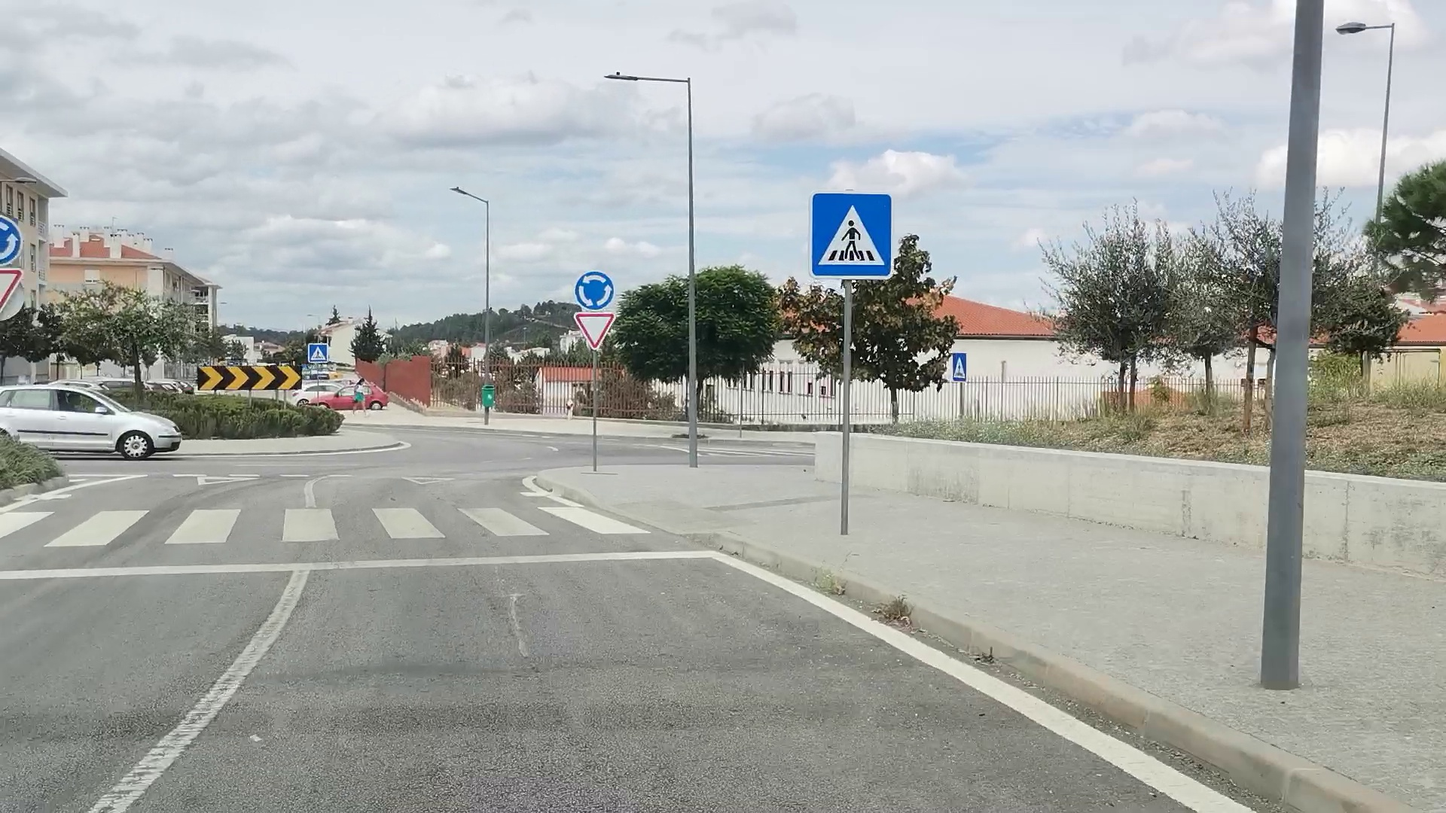Stairs: (0, 506, 651, 550)
